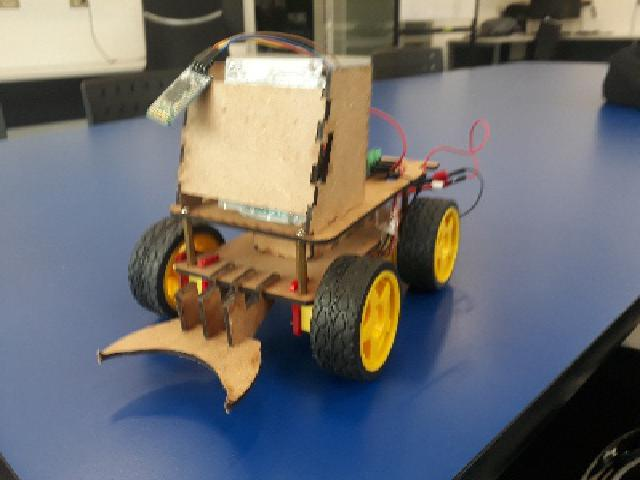Robot: (94, 31, 462, 416)
